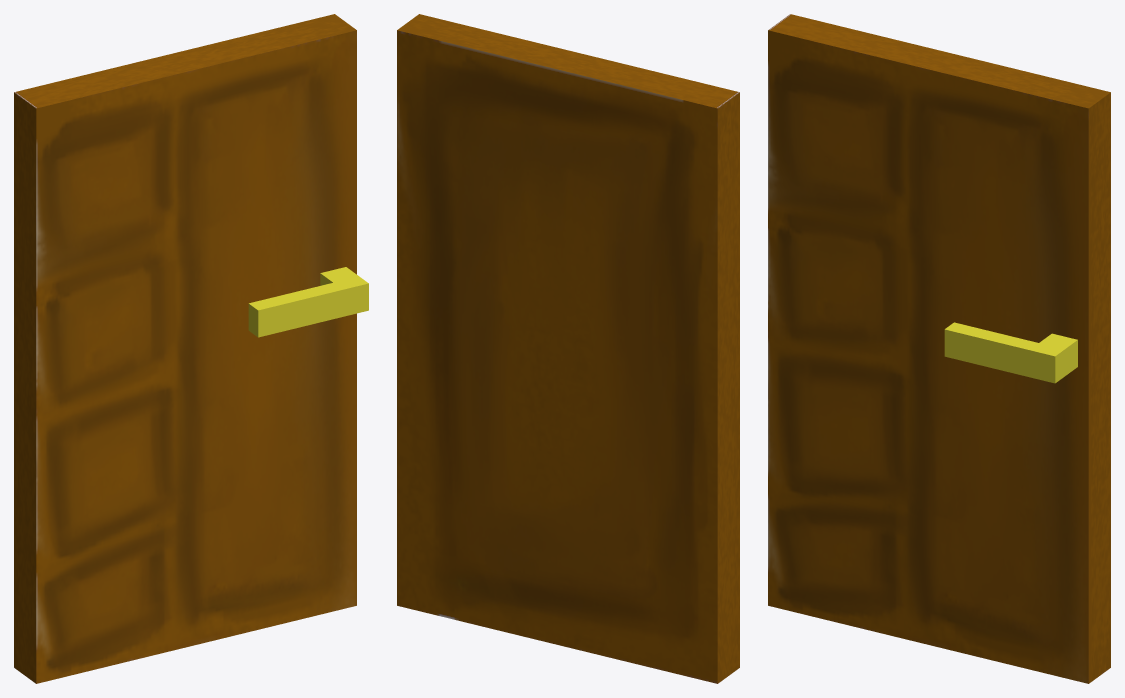
File: uks.glb
The picture shows the model from 3 angles, left to right: view 1: azimuth 30°, elevation 25°; view 2: azimuth 150°, elevation 25°; view 3: azimuth 330°, elevation 25°; orthographic projection.
Visible parts, largest first — view 1: Cube.001, Cube; view 2: Cube.001; view 3: Cube.001, Cube.
Part boxes in pixels (x1,y1,x2,y2): Cube.001: (14, 14, 356, 683); Cube: (248, 267, 368, 337); Cube.001: (397, 14, 739, 683); Cube.001: (768, 14, 1110, 683); Cube: (944, 322, 1077, 383).
Bounding box in the file's own units: 3.5 × 6 × 0.849.
2 materials, 1 textured.
